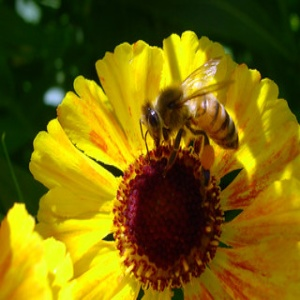bee: (141, 79, 242, 156)
